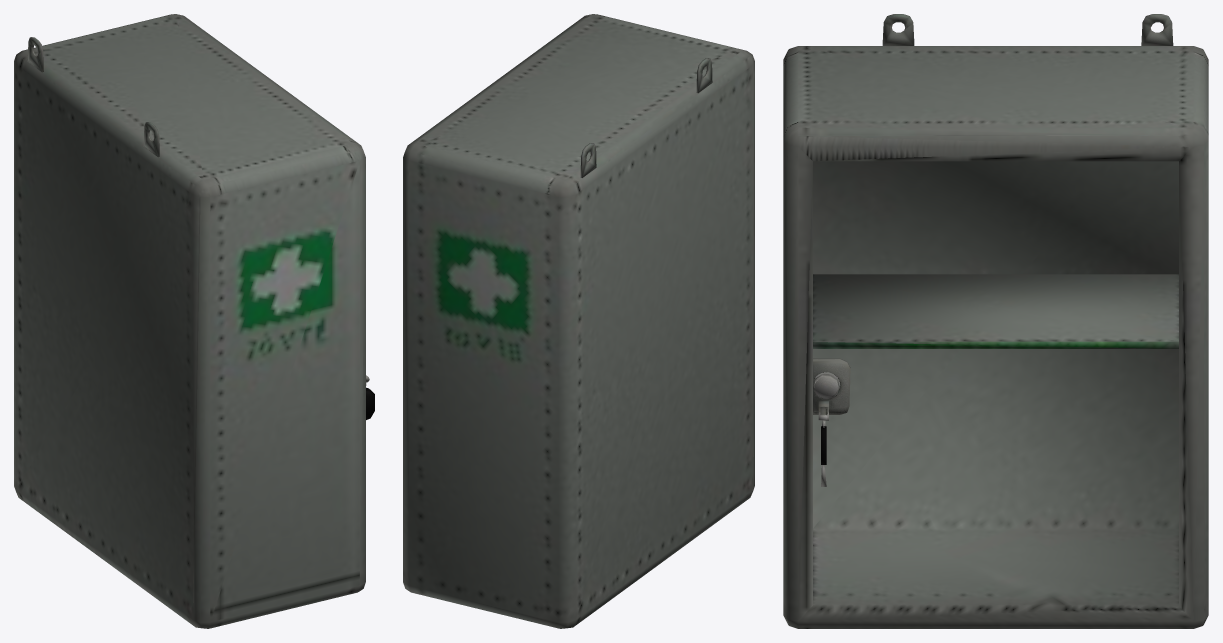
File: medical.fbx
The picture shows the model from 3 angles, left to right: view 1: azimuth 30°, elevation 25°; view 2: azimuth 150°, elevation 25°; view 3: azimuth 270°, elevation 25°; orthographic projection. The views are drawn at different scales.
Parts seen in each view (by area): view 1: tripo_node_0f6f98c4; view 2: tripo_node_0f6f98c4; view 3: tripo_node_0f6f98c4.
Part boxes in pixels (x1=…): tripo_node_0f6f98c4: x1=14, y1=14, x2=374, y2=628; tripo_node_0f6f98c4: x1=403, y1=14, x2=754, y2=628; tripo_node_0f6f98c4: x1=783, y1=14, x2=1208, y2=628.
Bounding box in the file's own units: 0.4238 × 0.998 × 0.7285.
1 material, 1 textured.
